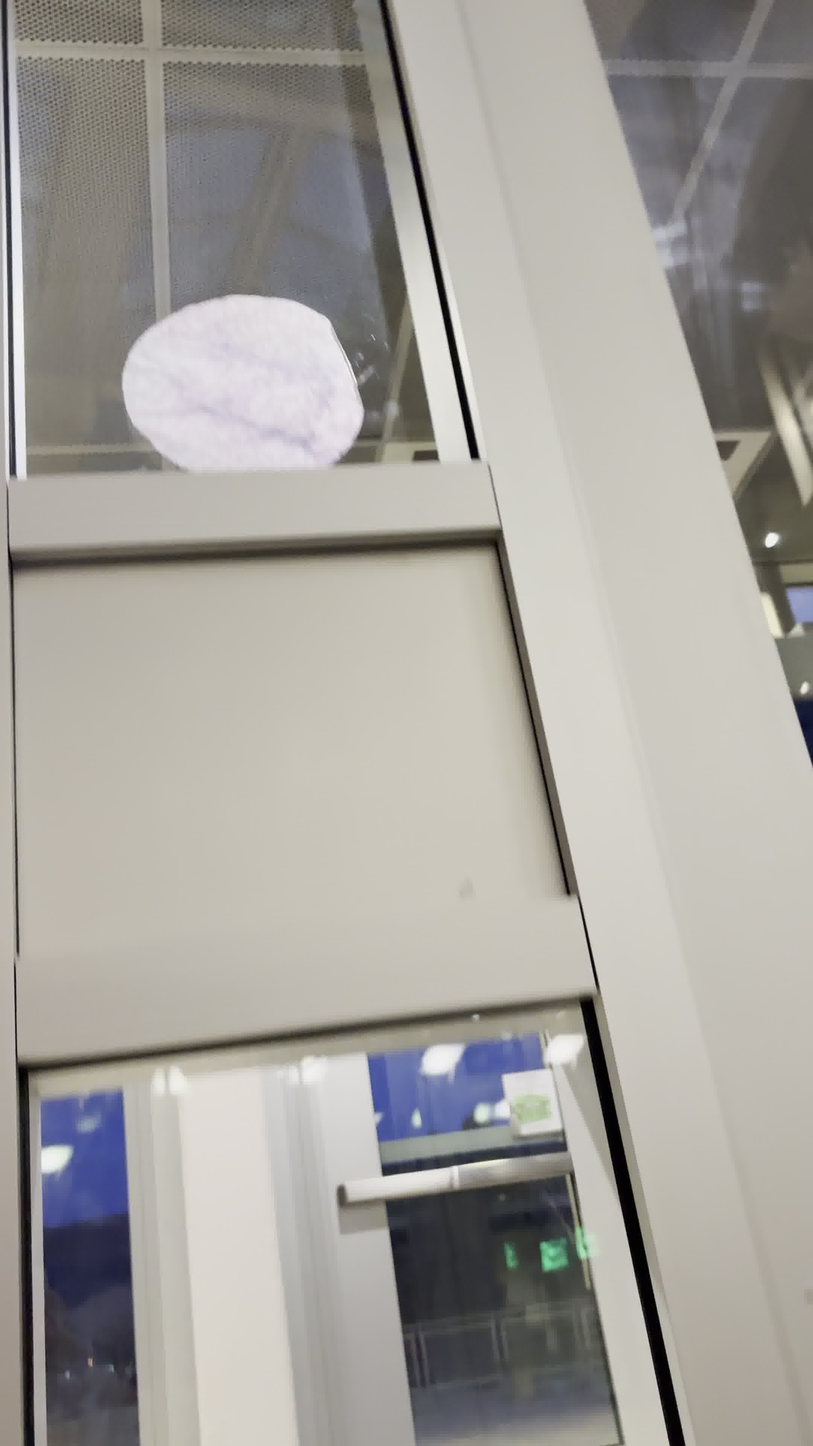Target: (117, 295, 368, 475)
